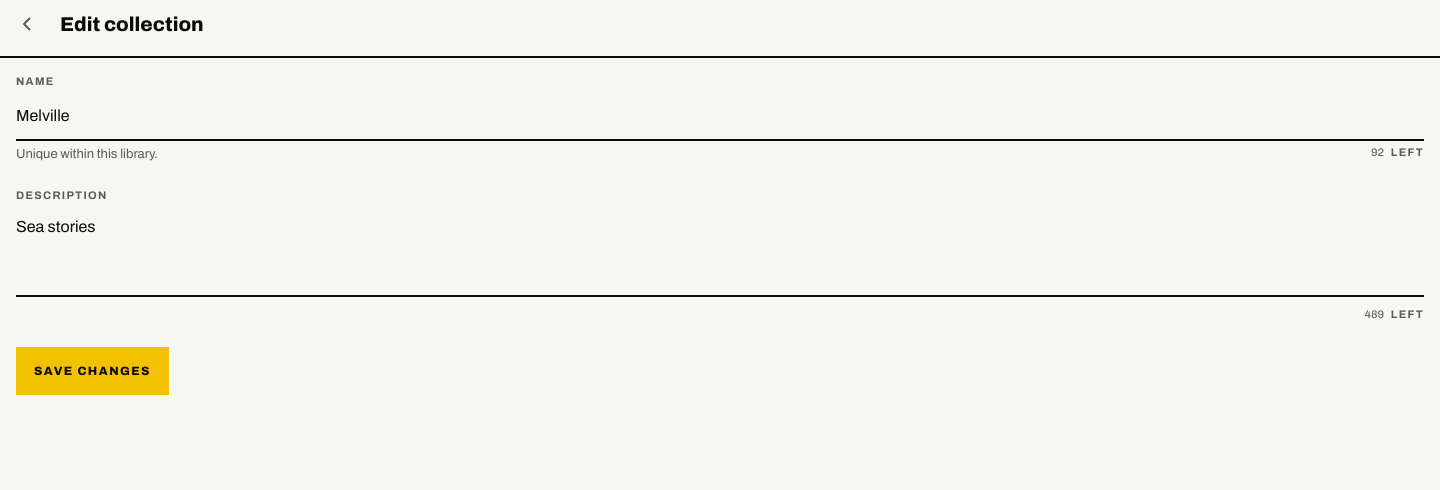
Test: EditCollection › shows a non-duplicate save failure as a page-level, app-authored message
Expected: the field labelled "Name" is shown, 16,93 -> 1424,141
Click the button "Save changes". click: (92, 371)
box: 16,347 -> 169,395
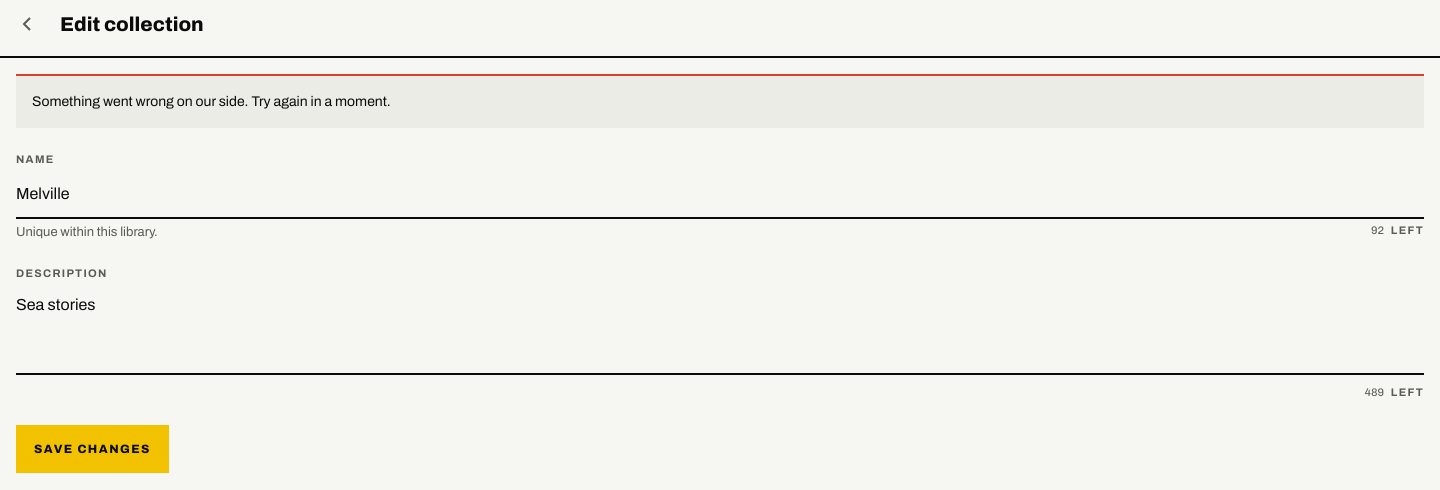
Result: the message shows "went wrong" at 32,94 -> 391,109
